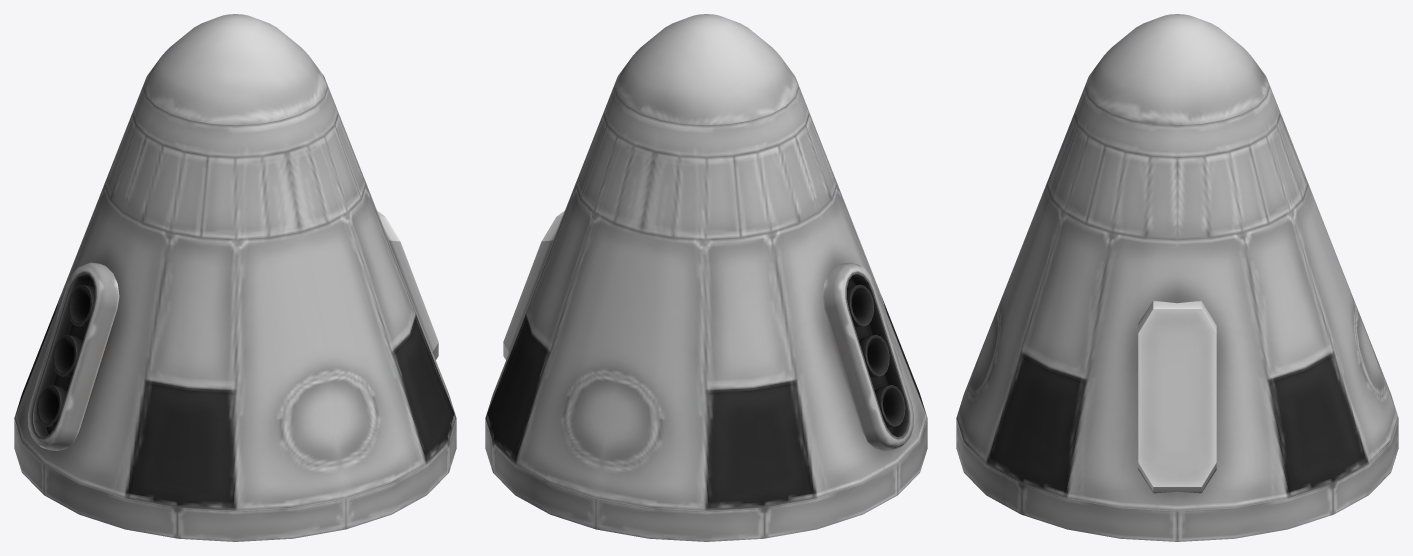
File: Titan_SRB_Nosecone.dae
3 views of the same model, side by side, from view 1: azimuth 30°, elevation 25°; view 2: azimuth 150°, elevation 25°; view 3: azimuth 270°, elevation 25° (orthographic).
Visible parts, largest first — view 1: Titan_SRB_Nosecone, Titan_Aft_Separatron2, pCube58, thrustTransform, thrustTransform_ncl1_2, thrustTransform_ncl1_1; view 2: Titan_SRB_Nosecone, Titan_Aft_Separatron2, pCube58, thrustTransform, thrustTransform_ncl1_2, thrustTransform_ncl1_1; view 3: Titan_SRB_Nosecone, pCube58.
Boxes of the visible parts, x1,y1,x2,y2 form: Titan_SRB_Nosecone: (14, 14, 456, 541); Titan_Aft_Separatron2: (28, 262, 119, 450); pCube58: (377, 210, 438, 359); thrustTransform: (52, 335, 82, 377); thrustTransform_ncl1_2: (36, 385, 67, 427); thrustTransform_ncl1_1: (68, 284, 94, 326); Titan_SRB_Nosecone: (485, 14, 927, 541); Titan_Aft_Separatron2: (822, 262, 913, 450); pCube58: (503, 210, 564, 359); thrustTransform: (859, 335, 889, 377); thrustTransform_ncl1_2: (874, 385, 905, 427); thrustTransform_ncl1_1: (847, 284, 873, 326); Titan_SRB_Nosecone: (956, 14, 1398, 541); pCube58: (1138, 300, 1216, 493).
Size of the model in its own units: 1.91 by 2 by 1.87.
